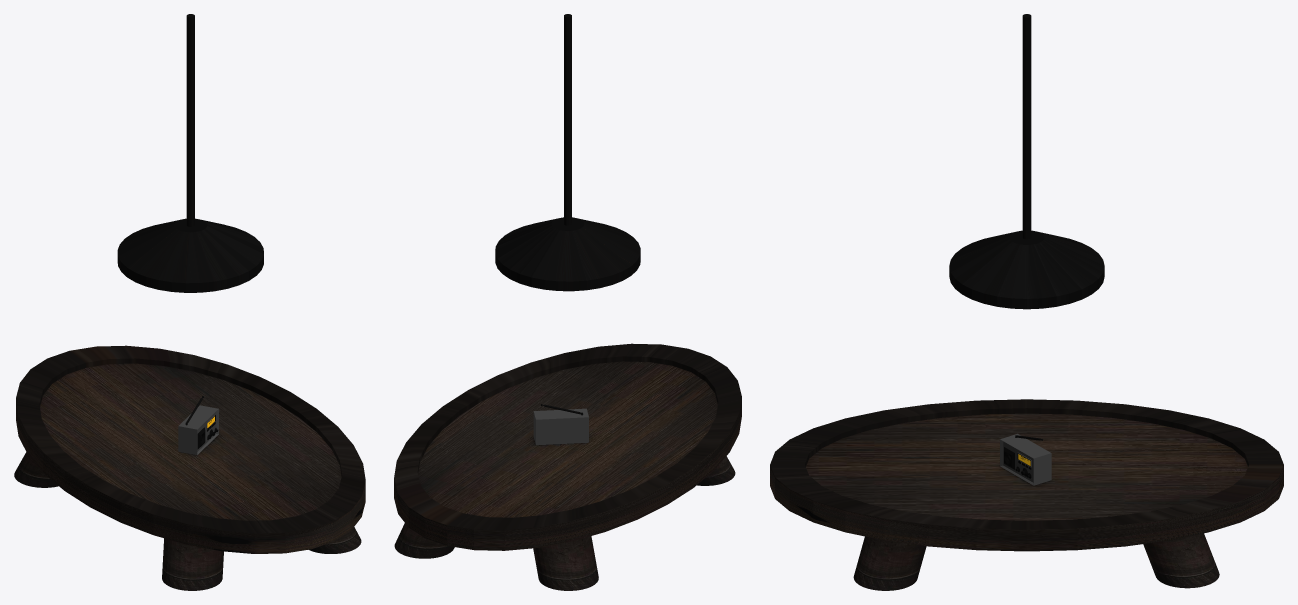
File: assets 1.fbx
3 views of the same model, side by side, from view 1: azimuth 30°, elevation 25°; view 2: azimuth 150°, elevation 25°; view 3: azimuth 270°, elevation 25° (orthographic). The views are drawn at different scales.
Parts seen in each view (by area): view 1: Cylinder.004; view 2: Cylinder.004; view 3: Cylinder.004.
Part boxes in pixels (x1,y1,x2,y2): Cylinder.004: (14, 14, 365, 590); Cylinder.004: (394, 14, 741, 590); Cylinder.004: (770, 14, 1283, 590).
Bounding box in the file's own units: 480 × 900 × 800.
